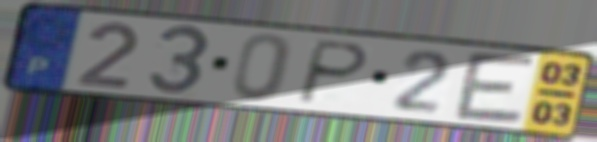0: (228, 32, 296, 105)
2: (73, 20, 142, 91), (388, 48, 459, 116)
3: (145, 22, 213, 100)
E: (450, 49, 541, 127)
P: (292, 37, 374, 106)
